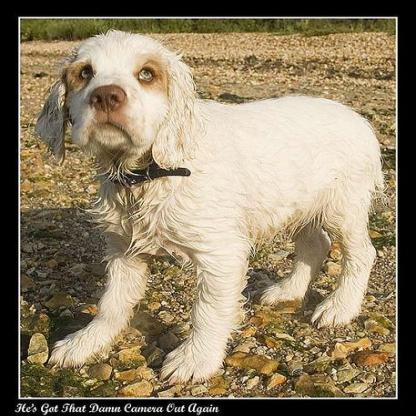clumber: (34, 28, 382, 384)
